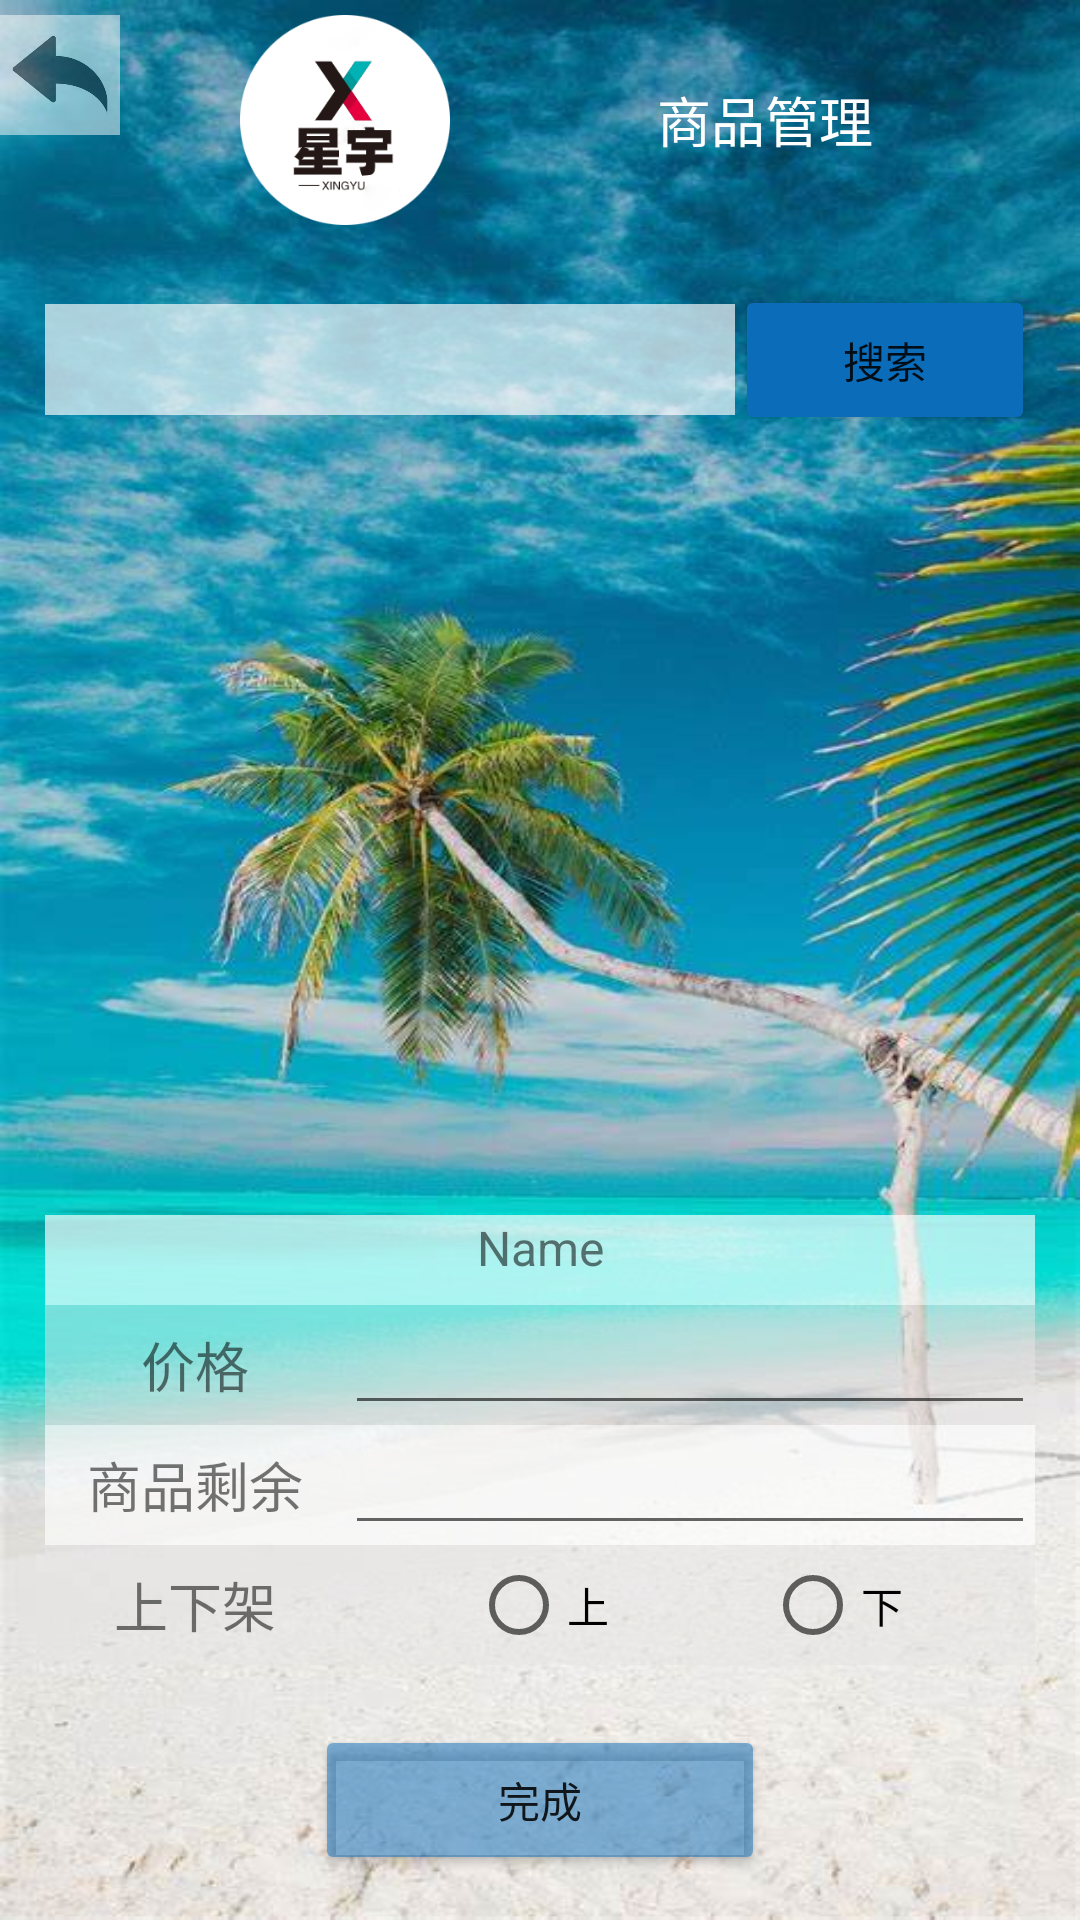

Icon click points for this 1080 x 1920 phone screenshot, format (x,y):
back: (60,75)
